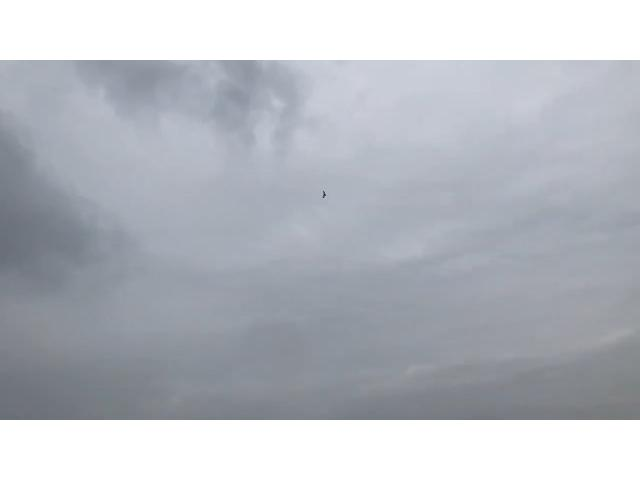Anti-Drone: (313, 186, 337, 204)
